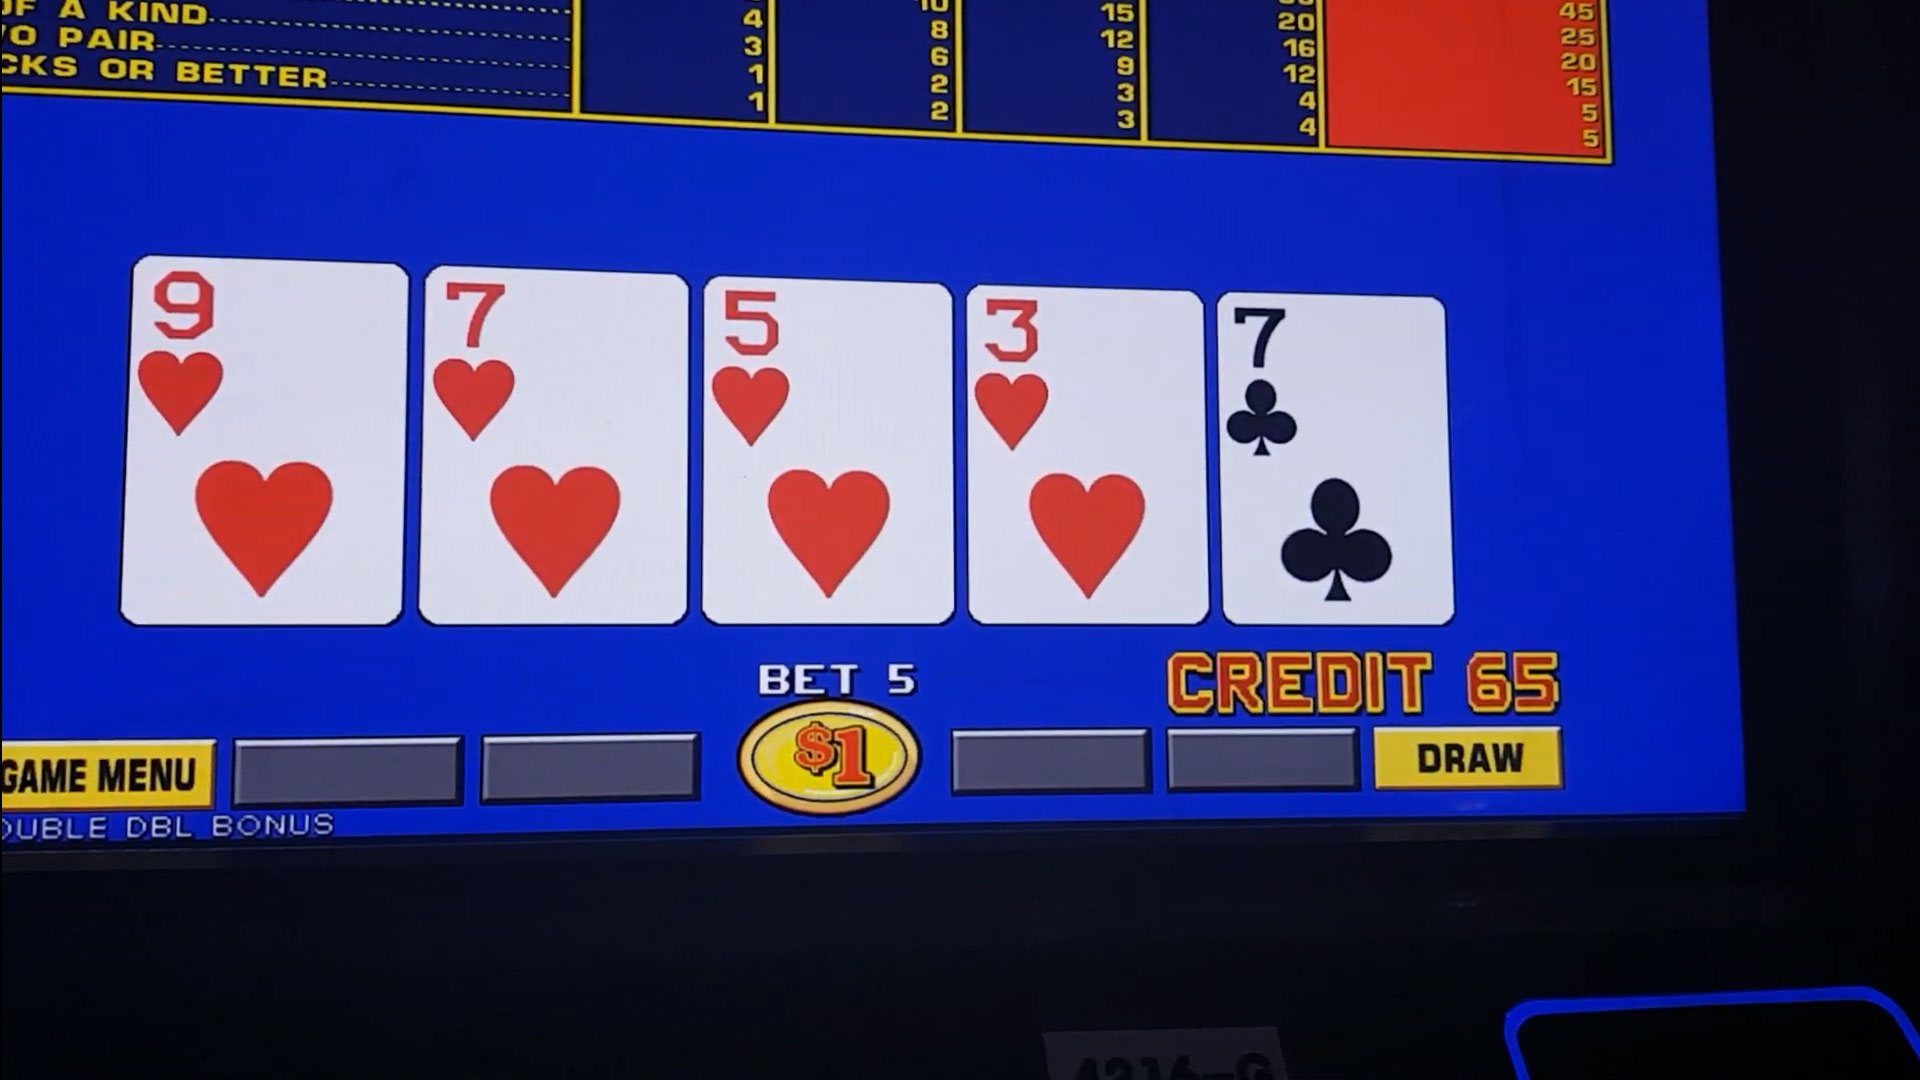C7: (1228, 305, 1440, 465)
H3: (973, 294, 1197, 463)
H5: (707, 287, 952, 458)
H7: (433, 276, 684, 448)
H9: (141, 269, 404, 443)
